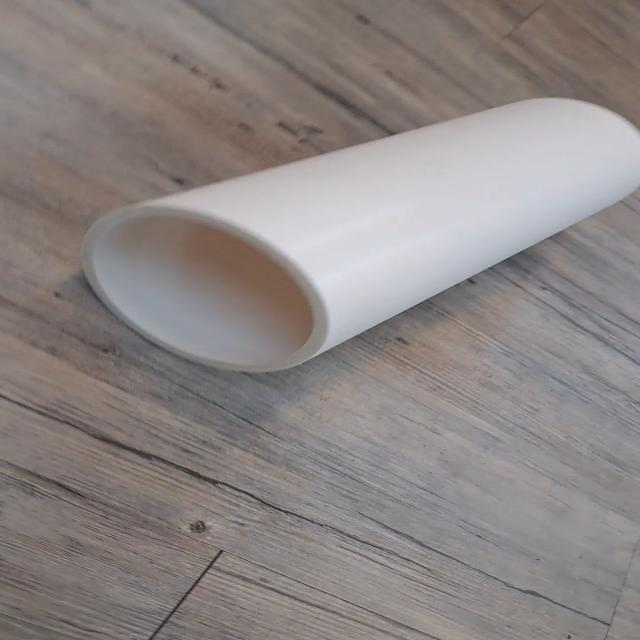CORAL: (74, 92, 640, 385)
